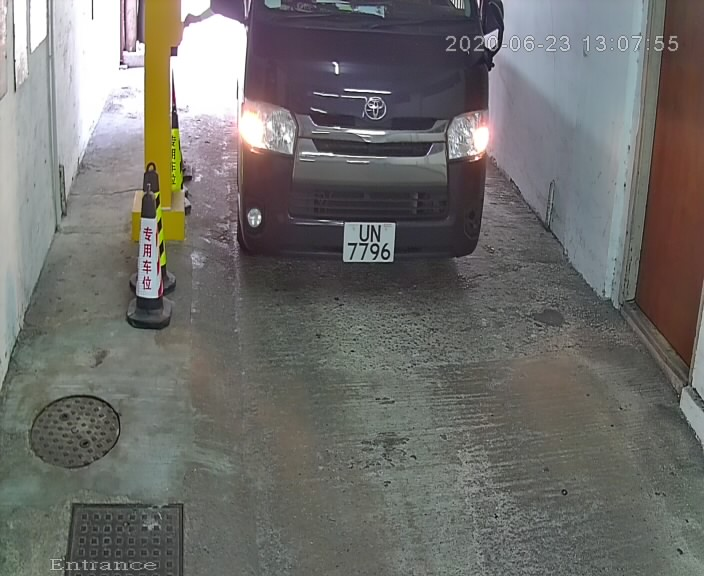van_s: (223, 1, 509, 296)
